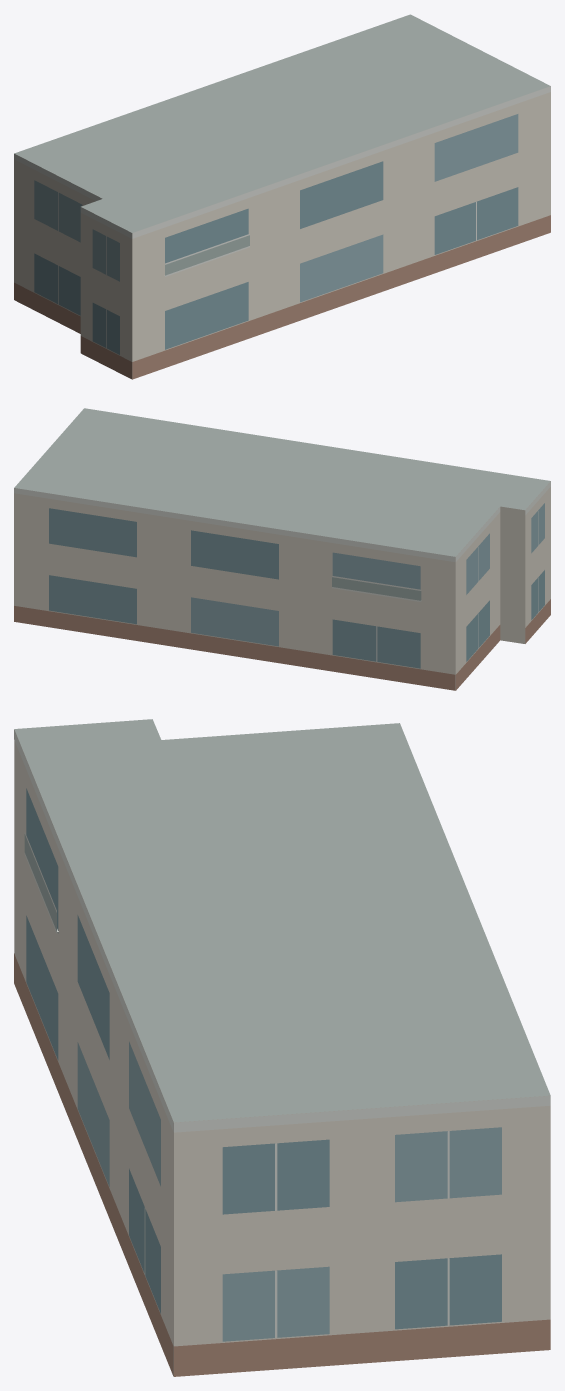
The model's file is survey-upis-32809681.glb.
3 views of the same model, one above another, from view 1: azimuth 30°, elevation 25°; view 2: azimuth 150°, elevation 25°; view 3: azimuth 270°, elevation 25° (orthographic). The views are drawn at different scales.
Visible parts, largest first — view 1: survey-upis-32809681.tmp; view 2: survey-upis-32809681.tmp; view 3: survey-upis-32809681.tmp.
Part boxes in pixels (bbox=[...]): survey-upis-32809681.tmp: bbox=[14, 14, 550, 379]; survey-upis-32809681.tmp: bbox=[14, 408, 550, 690]; survey-upis-32809681.tmp: bbox=[14, 719, 550, 1376].
Bounding box in the file's own units: 20.77 × 6.1 × 11.67.
